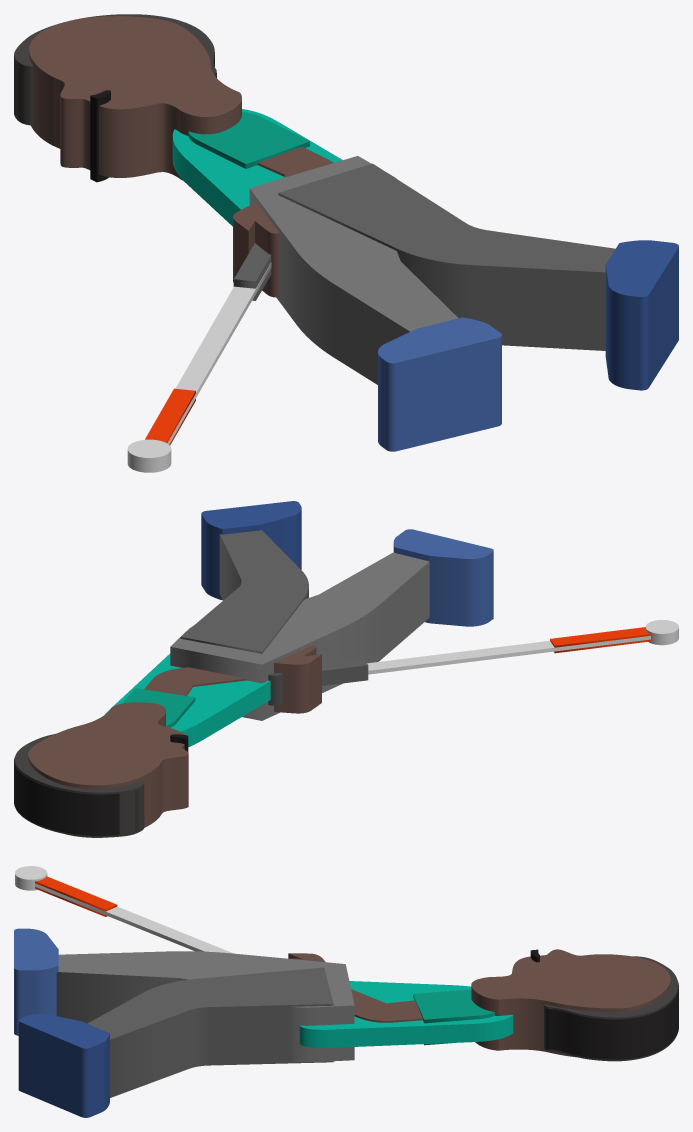
Rendered from emoji_u1f468_1f3ff_200d_1f9af.glb.
3 renders of one model, top to bottom at view 1: azimuth 30°, elevation 25°; view 2: azimuth 150°, elevation 25°; view 3: azimuth 270°, elevation 25°, orthographic. The views are drawn at different scales.
Parts seen in each view (by area): view 1: emoji_u1f468_1f3ff_200d_1f9af; view 2: emoji_u1f468_1f3ff_200d_1f9af; view 3: emoji_u1f468_1f3ff_200d_1f9af.
Part boxes in pixels (x1,y1,x2,y2): emoji_u1f468_1f3ff_200d_1f9af: (14, 14, 678, 472); emoji_u1f468_1f3ff_200d_1f9af: (14, 501, 678, 837); emoji_u1f468_1f3ff_200d_1f9af: (14, 866, 678, 1117).
Size of the model in its own units: 0.0249 by 0.0038 by 0.033.
